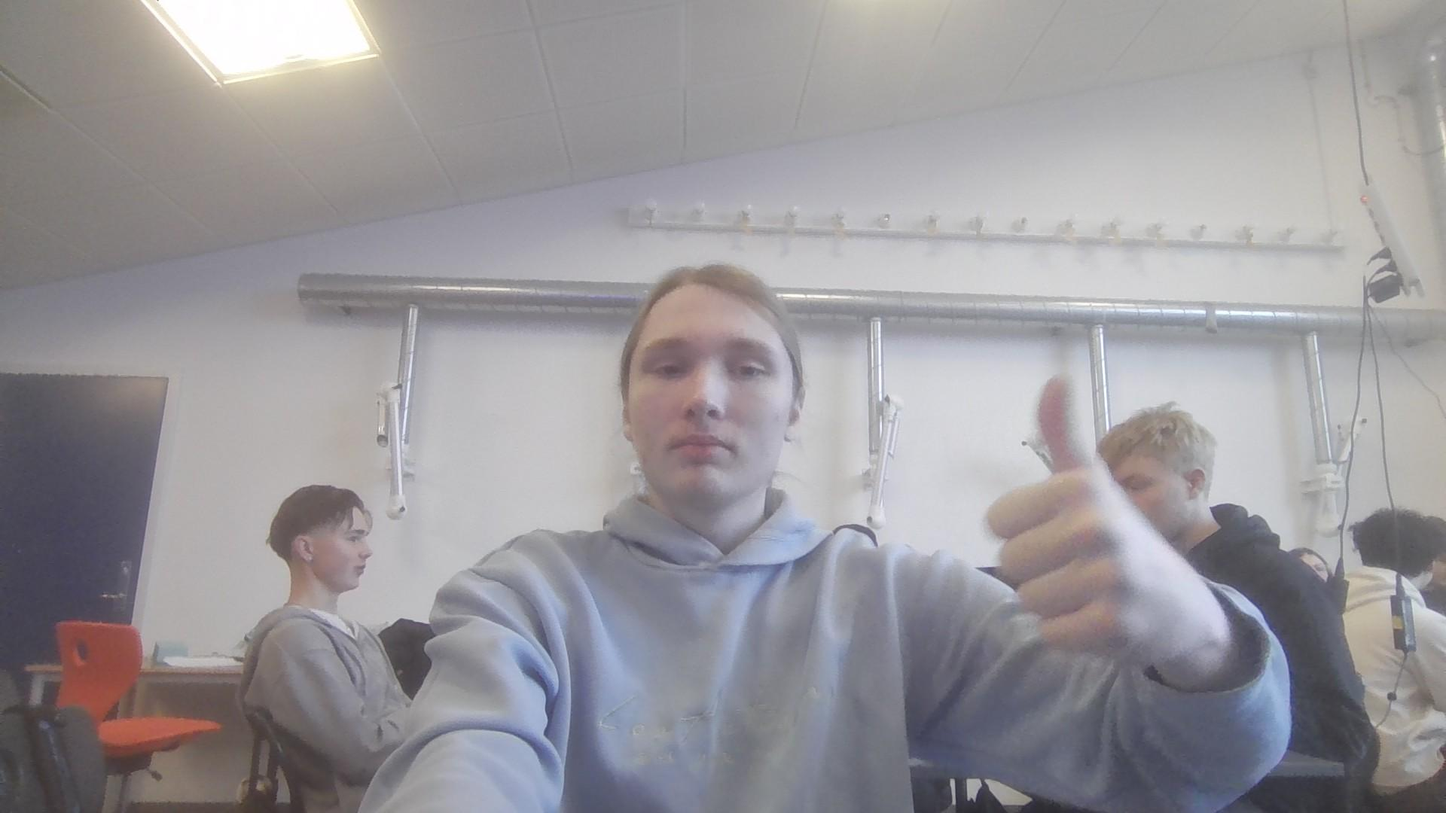thumbs up: (988, 369, 1219, 671)
